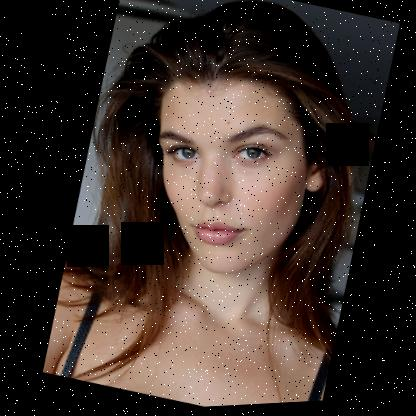Female: (118, 59, 349, 301)
